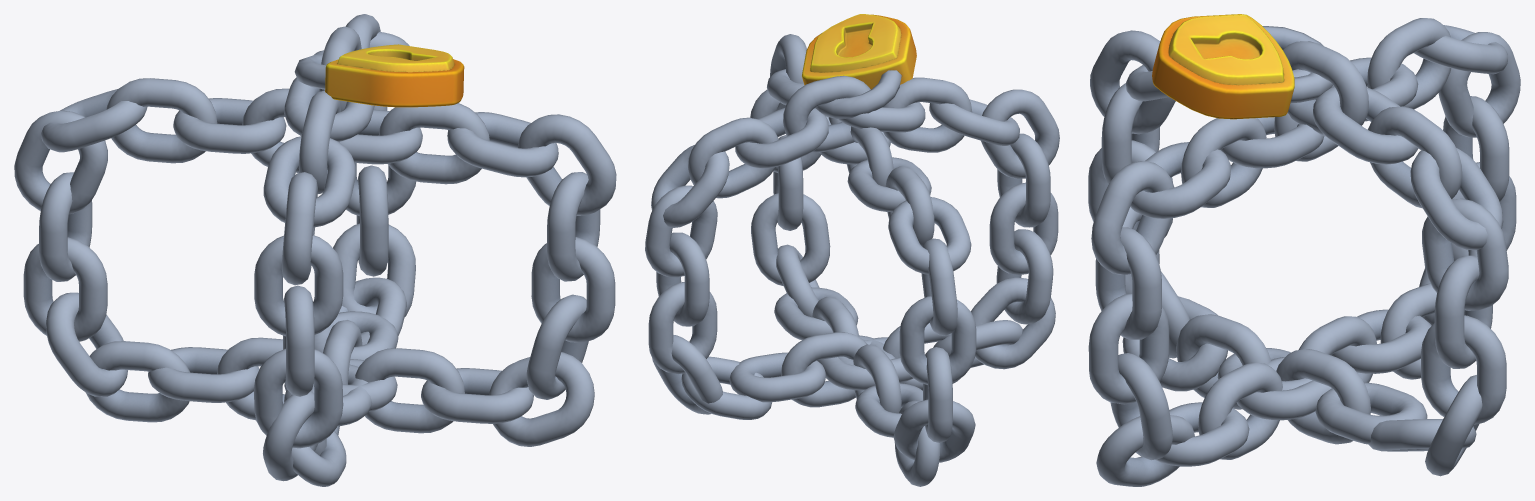
Rendered from Chain_Block_05.fbx.
3 views of the same model, side by side, from view 1: azimuth 30°, elevation 25°; view 2: azimuth 150°, elevation 25°; view 3: azimuth 270°, elevation 25° (orthographic). The views are drawn at different scales.
Parts seen in each view (by area): view 1: Chain; view 2: Chain; view 3: Chain.
Boxes of the visible parts, x1,y1,x2,y2 form: Chain: (14, 14, 616, 486); Chain: (645, 14, 1059, 486); Chain: (1088, 14, 1520, 486).
Bounding box in the file's own units: 1.78 × 1.7 × 1.57.
Materials: 1 (1 with a texture image).
